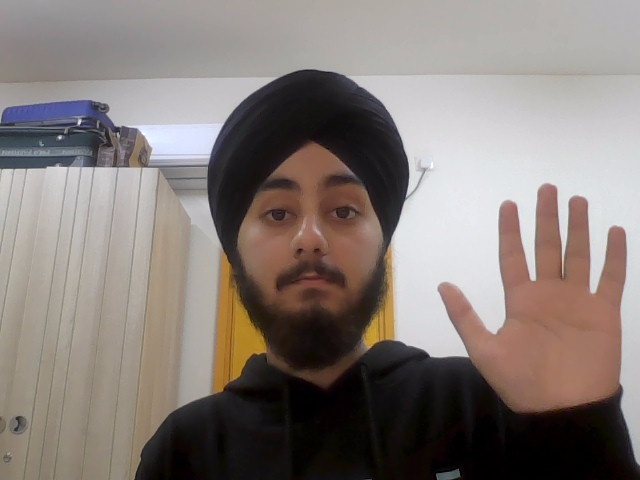Hello: (436, 170, 639, 404)
